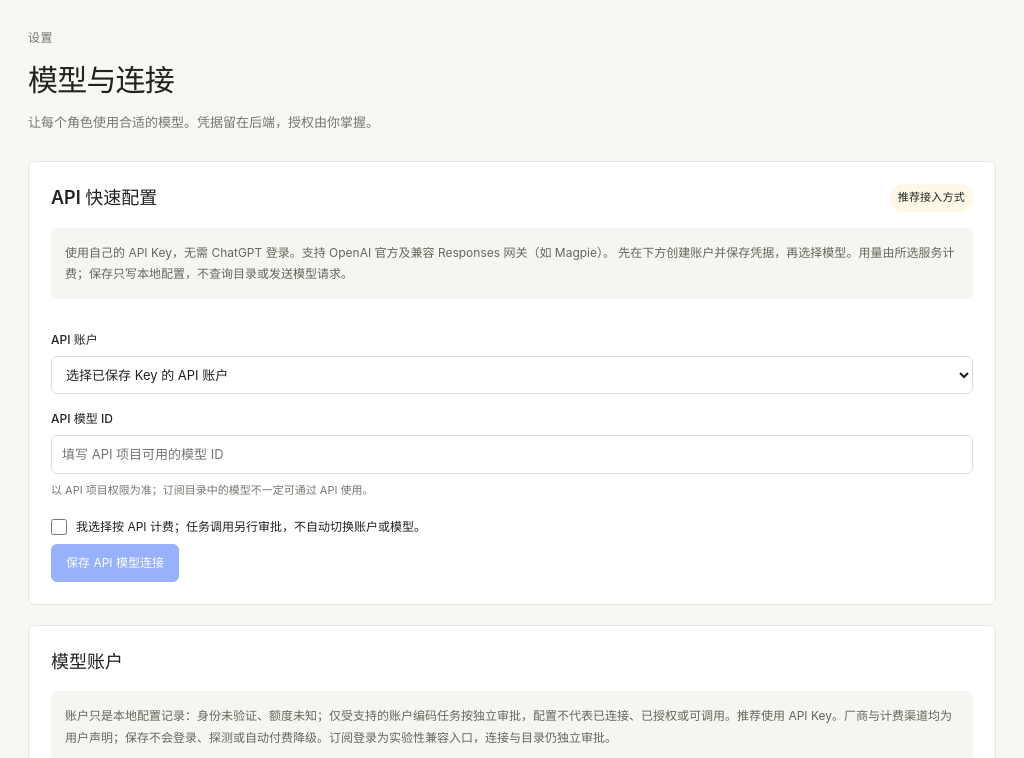
Test case: reconciles a lost route save by reading only, never automatically replaying
Select "My API · 凭据版本 1" in the dropdown labelled "API 账户" at (512, 375), box x1=51 y1=356 x2=973 y2=394
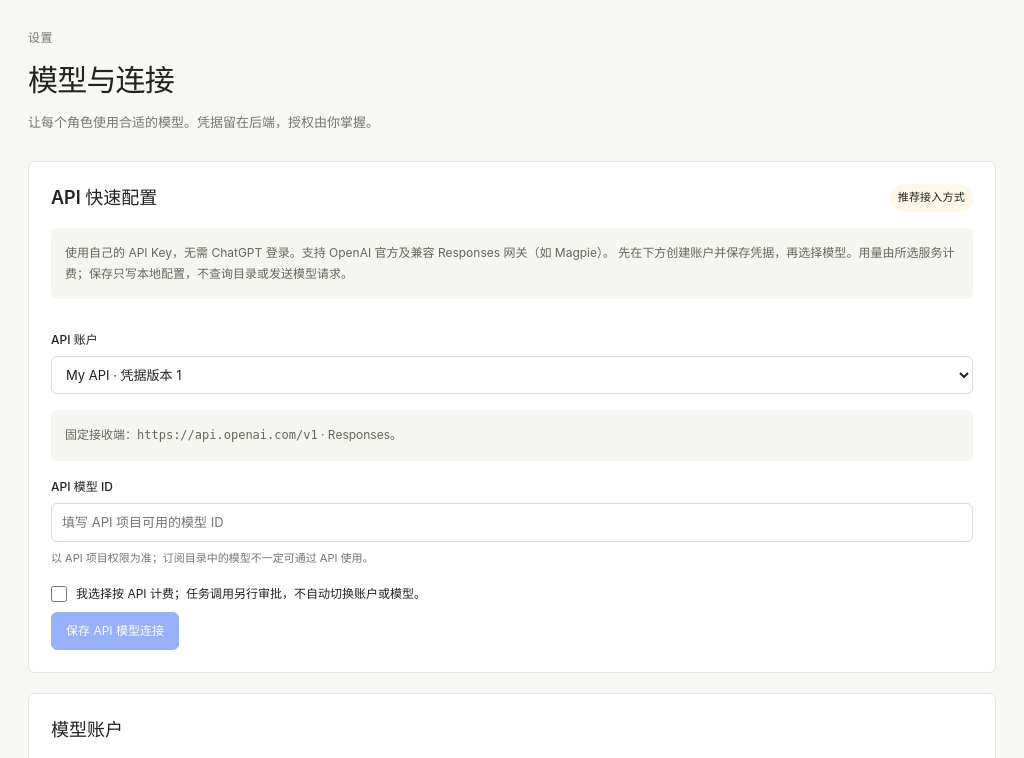
Type "approved-api-model" into the field labelled "API 模型 ID" at (512, 522), box x1=51 y1=503 x2=973 y2=542
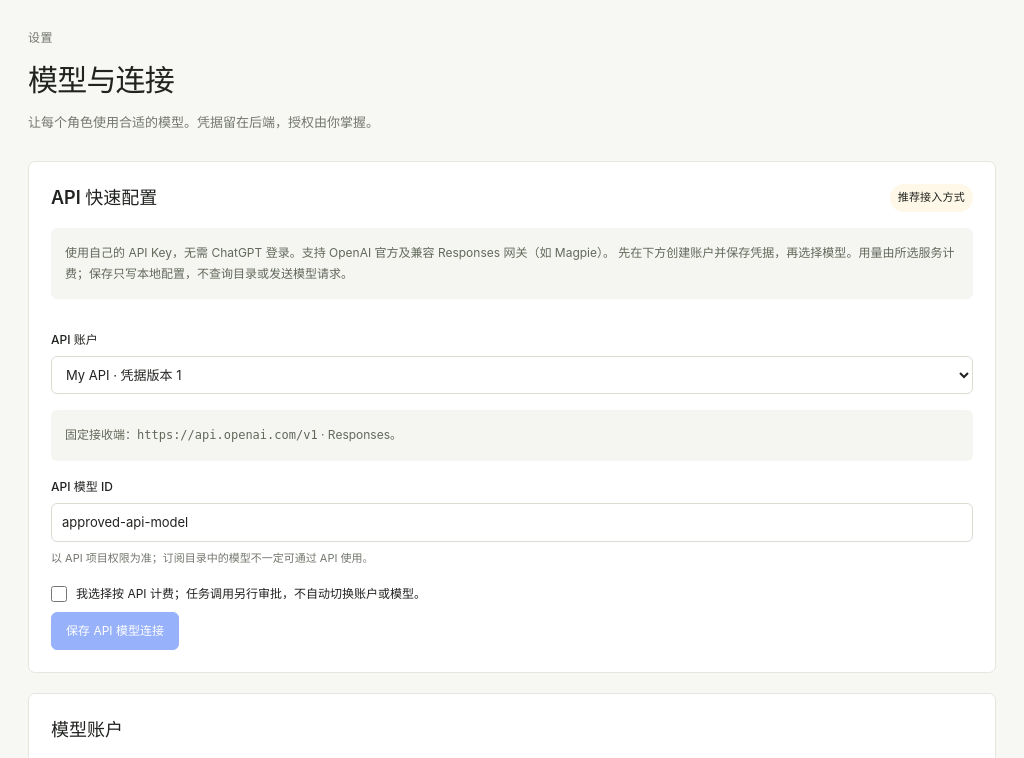
Click the checkbox labelled "我选择按 API 计费；任务调用另行审批，不自动切换账户或模型。" at (59, 594), box x1=51 y1=586 x2=67 y2=602
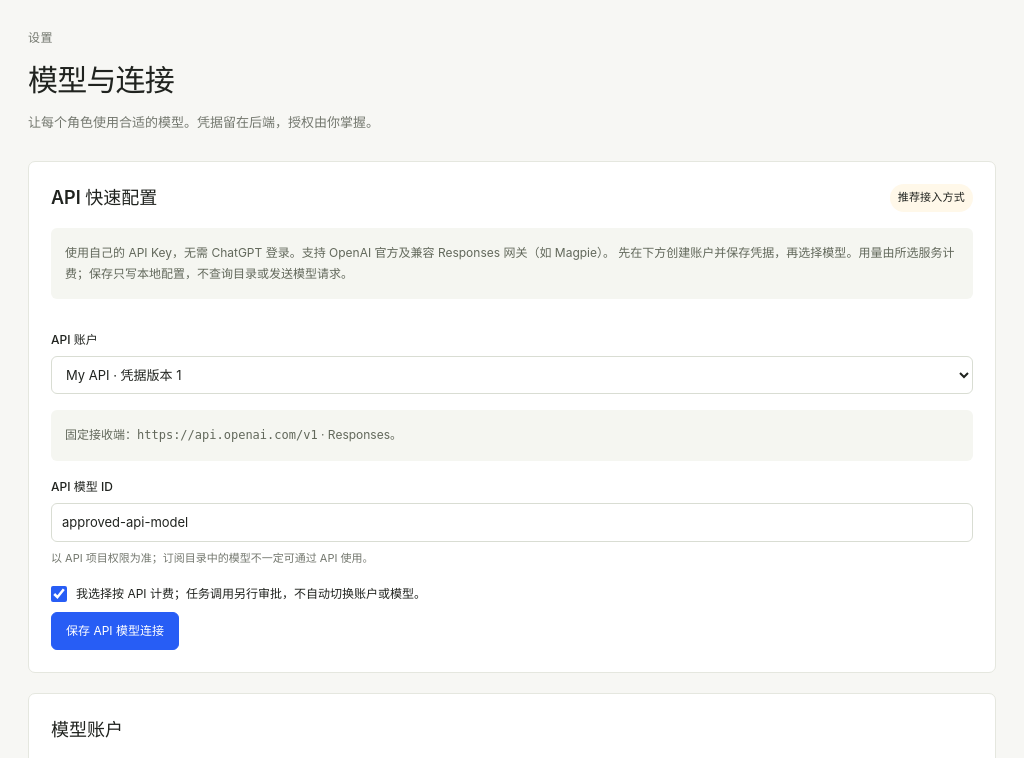
Click the button "保存 API 模型连接" at (115, 631), box x1=51 y1=612 x2=179 y2=650
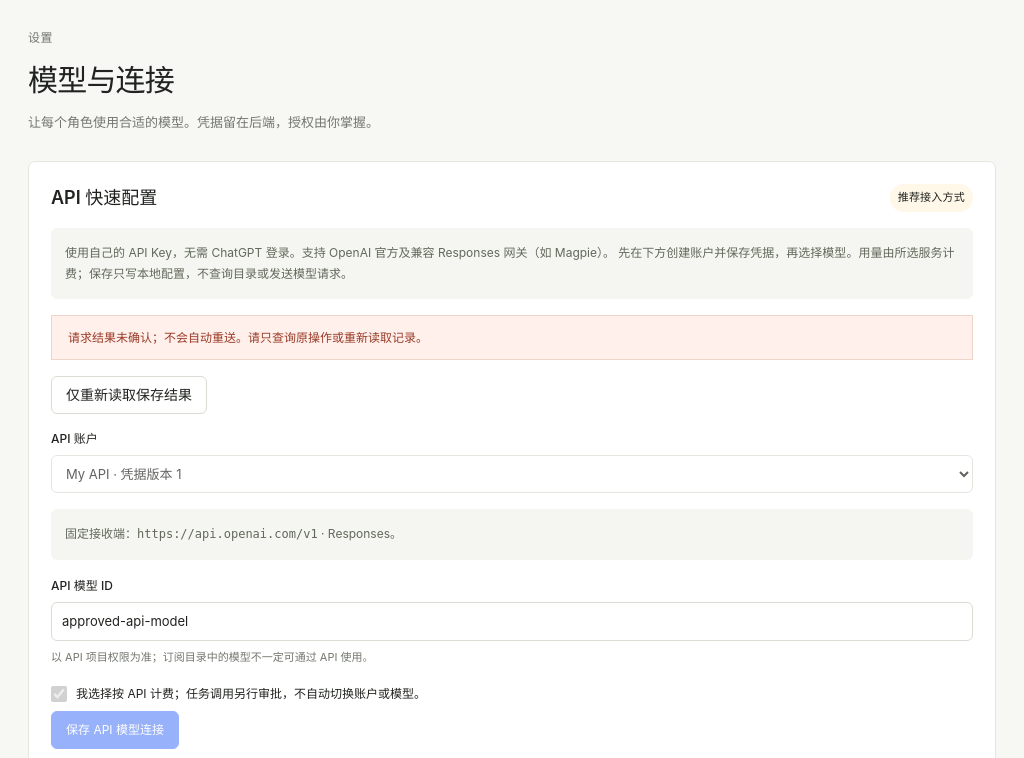
Now the button "保存 API 模型连接" is disabled, box x1=51 y1=711 x2=179 y2=749
Now the button "仅重新读取保存结果" is enabled
Click the button "仅重新读取保存结果" at (129, 395), box x1=51 y1=376 x2=207 y2=414
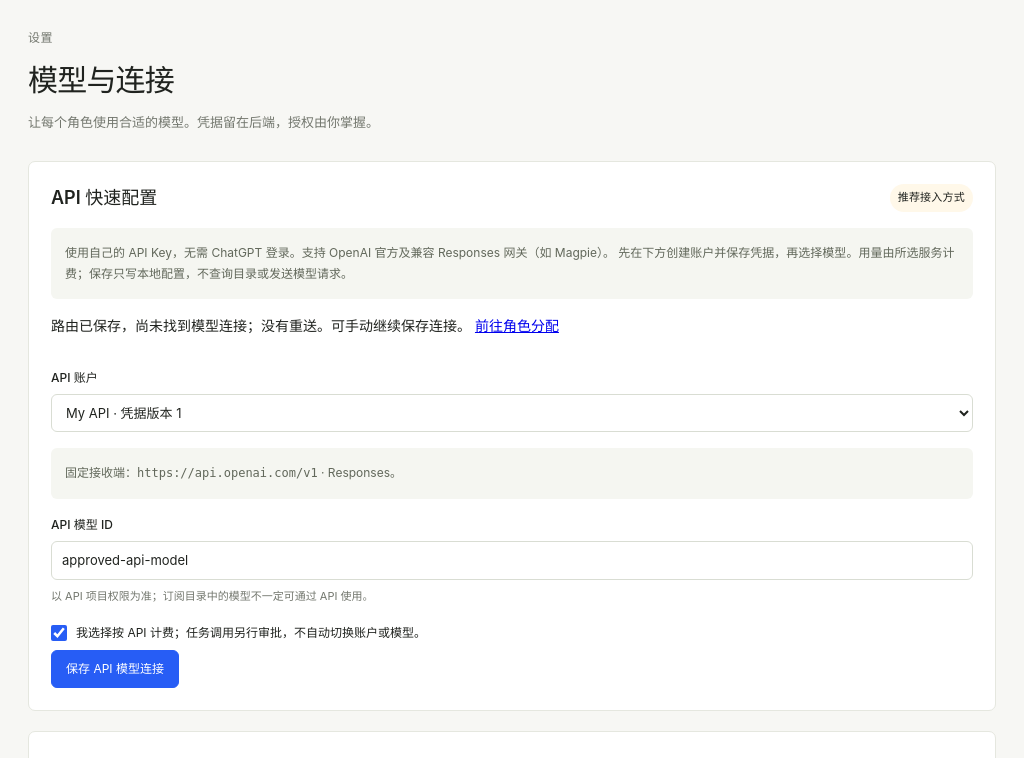
Now the button "仅重新读取保存结果" is gone
Now the message shows "路由已保存", box x1=51 y1=317 x2=471 y2=334
